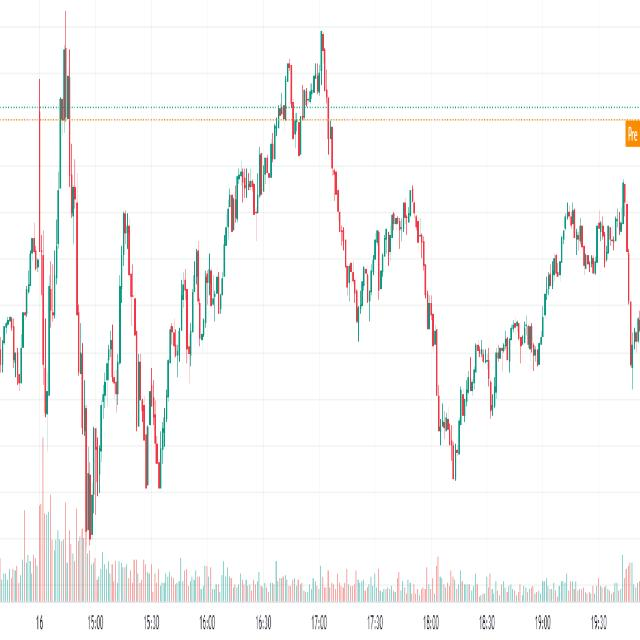Head-Shoulders: (90, 201, 163, 492)
